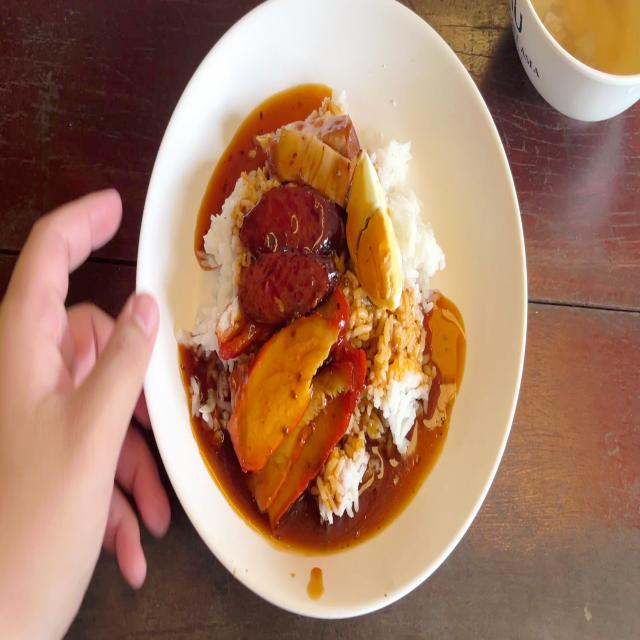boiled_egg: (353, 144, 396, 301)
chainese_sausage: (232, 186, 332, 302)
crispy_pork: (266, 95, 353, 189)
red_pork: (228, 314, 348, 492)
red_pork_and_crispy_pork: (188, 89, 438, 523)
rice: (382, 141, 443, 293), (375, 294, 425, 447)
